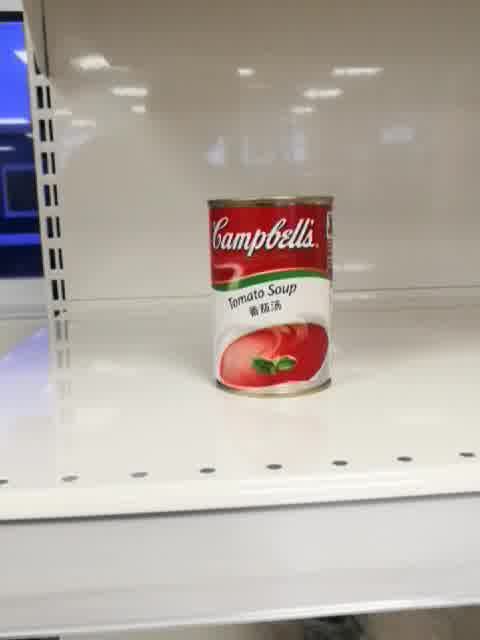tomatosoup: (205, 191, 336, 399)
